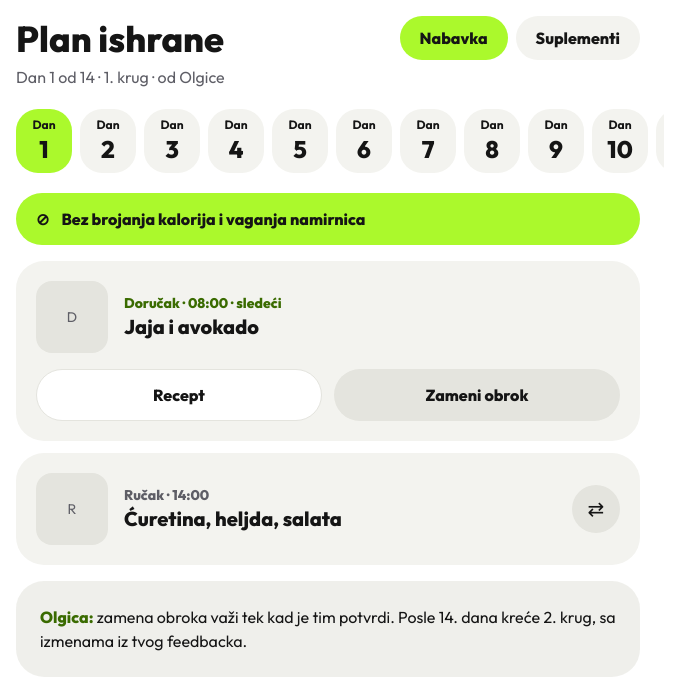
Plan ishrane › izbor drugog dana menja obroke
Step 1. Click the button "Dan 6" → (364, 141), box [336,109,392,173]
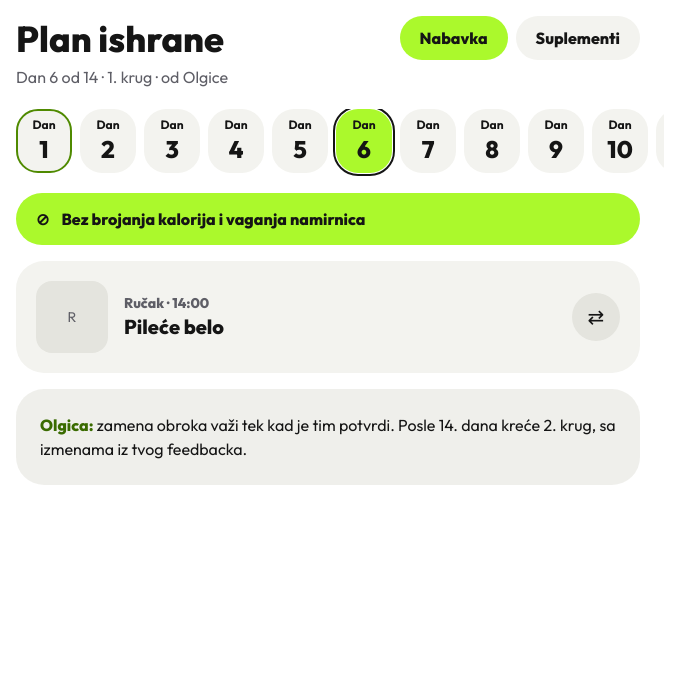
Expected: the text "Pileće belo" is shown, [124,314,224,339]
Expected: the text "Jaja i avokado" is gone
